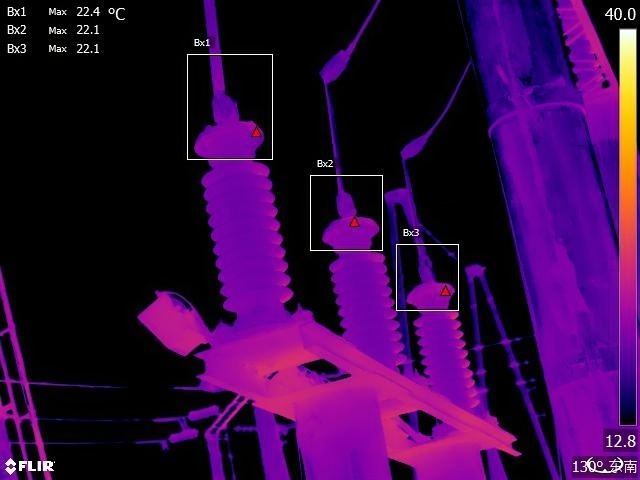lightning arrester: (190, 118, 300, 322), (316, 203, 400, 358), (404, 271, 481, 412)
